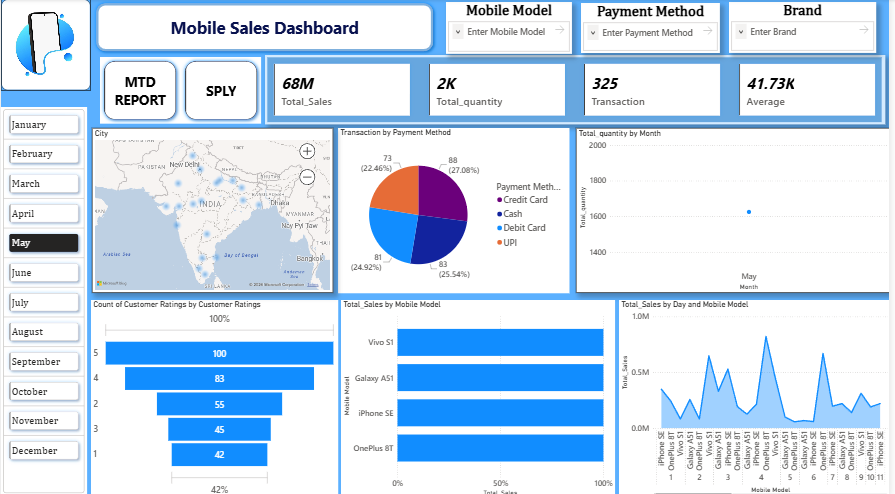

This screenshot's page, from the dashboard's own definition file:
{"tool":"powerbi","page":{"name":"Dashboard","canvas":[1920,1080],"ordinal":0},"visuals":[{"type":"image","box":[0,0,194,198],"z":0},{"type":"cardVisual","fields":{"Data":["Sales_data.Total_Sales","Sales_data.Total_quantity","Sales_data.Transaction","Sales_data.Average"]},"box":[570,120,1340,150],"z":1000},{"type":"textSlicer","fields":{"Values":["Sales_data.Payment Method"]},"box":[1252.8,8.6,300.2,108],"z":2000},{"type":"textSlicer","fields":{"Values":["Sales_data.Brand"]},"box":[1572,6,318,110],"z":3000},{"type":"shape","box":[196,0,746,122],"z":4000},{"type":"advancedSlicerVisual","fields":{"Values":["Custom_Calender.Date.Variation.Date Hierarchy.Month"]},"box":[0,233.3,185.8,846.7],"z":5000},{"type":"lineChart","fields":{"Category":["Custom_Calender.Date.Variation.Date Hierarchy.Month"],"Y":["Sales_data.Total_quantity"]},"box":[1242,278.6,678.2,356.4],"z":6000},{"type":"funnel","fields":{"Category":["Sales_data.Customer Ratings"],"Y":["CountNonNull(Sales_data.Customer Ratings)"]},"box":[194.4,650.2,533.5,429.8],"z":7000},{"type":"pieChart","fields":{"Category":["Sales_data.Payment Method"],"Y":["Sales_data.Transaction"]},"box":[728.3,278.3,500,356.7],"z":8000},{"type":"hundredPercentStackedBarChart","fields":{"Y":["Sales_data.Total_Sales"],"Category":["Sales_data.Mobile Model"]},"box":[734.4,650.2,591.8,429.8],"z":9000},{"type":"areaChart","fields":{"Category":["Custom_Calender.Date.Variation.Date Hierarchy.Day","Sales_data.Mobile Model"],"Y":["Sales_data.Total_Sales"]},"box":[1334.9,650.2,585.4,429.8],"z":10000},{"type":"map","fields":{"Category":["Sales_data.City"]},"box":[196.6,278.6,520.6,356.4],"z":11000},{"type":"pageNavigator","box":[214,126,348,144],"z":12000},{"type":"textSlicer","fields":{"Values":["Sales_data.Mobile Model"]},"box":[962,6,272,112],"z":13000}]}

Visuals, with their boxes in screenshot pixels (x1, y1, x2, y2), scaled from the page's 1920x1080 canvas onto the 895x494 screenshot:
image: <box>0,0,90,91</box>
cardVisual - Sales_data.Total_Sales x Sales_data.Total_quantity: <box>266,55,890,124</box>
textSlicer - Sales_data.Payment Method: <box>584,4,724,53</box>
textSlicer - Sales_data.Brand: <box>733,3,881,53</box>
shape: <box>91,0,439,56</box>
advancedSlicerVisual - Custom_Calender.Date.Variation.Date Hierarchy.Month: <box>0,107,87,493</box>
lineChart - Custom_Calender.Date.Variation.Date Hierarchy.Month x Sales_data.Total_quantity: <box>579,127,894,290</box>
funnel - Sales_data.Customer Ratings x CountNonNull(Sales_data.Customer Ratings): <box>91,297,339,493</box>
pieChart - Sales_data.Payment Method x Sales_data.Transaction: <box>339,127,573,290</box>
hundredPercentStackedBarChart - Sales_data.Total_Sales x Sales_data.Mobile Model: <box>342,297,618,493</box>
areaChart - Custom_Calender.Date.Variation.Date Hierarchy.Day x Sales_data.Mobile Model: <box>622,297,894,493</box>
map - Sales_data.City: <box>92,127,334,290</box>
pageNavigator: <box>100,58,262,124</box>
textSlicer - Sales_data.Mobile Model: <box>448,3,575,54</box>
